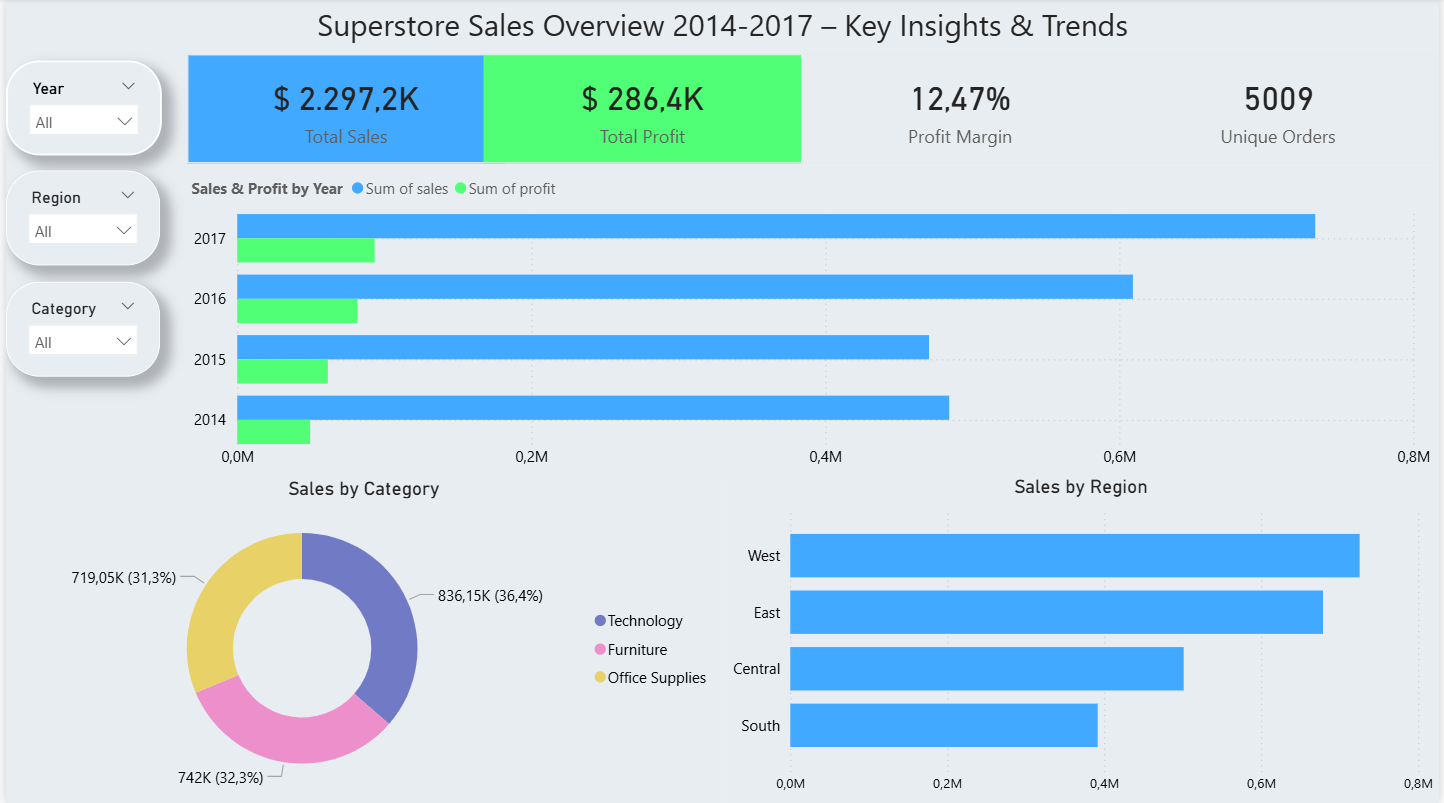

What the dashboard file says about the page in this screenshot:
{"tool":"powerbi","page":{"name":"Overview","canvas":[1280,720],"ordinal":0},"visuals":[{"type":"card","fields":{"Values":["superstore_clean.Total Sales"]},"box":[161.6,50,284.1,97.7],"z":0,"group":"g1"},{"type":"donutChart","title":"Sales by Category","fields":{"Category":["superstore_clean.category"],"Y":["Sum(superstore_clean.sales)"]},"box":[0,428.1,639.5,292.3],"z":0},{"type":"card","fields":{"Values":["superstore_clean.Total Profit"]},"box":[426.6,50,284.4,97.3],"z":1000,"group":"g1"},{"type":"slicer","fields":{"Values":["superstore_clean.order_year"]},"box":[-0.3,56,139.1,84.9],"z":1000,"group":"g2"},{"type":"clusteredBarChart","title":"Sales by Region","fields":{"Category":["superstore_clean.region"],"Y":["Sum(superstore_clean.sales)"]},"box":[639.5,426.8,640.8,293.7],"z":1000},{"type":"clusteredBarChart","fields":{"Y":["Sum(superstore_clean.sales)","Sum(superstore_clean.profit)"],"Category":["Calendar.Year"]},"box":[161.1,149.2,1116.6,279.8],"z":2000},{"type":"slicer","fields":{"Values":["superstore_clean.region"]},"box":[-0.3,154.8,137.7,84.9],"z":2000,"group":"g2"},{"type":"group","id":"g1","title":"Group 2","box":[161.6,50,1116.3,97.7],"z":3000},{"type":"card","fields":{"Values":["superstore_clean.Profit Margin"]},"box":[710.4,50,284.7,97.7],"z":3000,"group":"g1"},{"type":"slicer","fields":{"Values":["superstore_clean.category"]},"box":[-0.3,253.6,137.7,84.9],"z":3000,"group":"g2"},{"type":"textbox","box":[0,0,1280.2,50],"z":4000},{"type":"card","fields":{"Values":["Count(superstore_clean.order_id)"]},"box":[994.6,50,283.3,97.7],"z":4000,"group":"g1"},{"type":"group","id":"g2","title":"Group 3","box":[-0.3,56,139.1,282.4],"z":5000}]}

Visuals, with their boxes in screenshot pixels (x1, y1, x2, y2), scaled from the page's 1280x720 canvas onto the 1444x803 screenshot:
card - superstore_clean.Total Sales: detection(182, 56, 503, 165)
"Sales by Category" donutChart: detection(0, 477, 721, 802)
card - superstore_clean.Total Profit: detection(481, 56, 802, 164)
slicer - superstore_clean.order_year: detection(0, 62, 157, 157)
"Sales by Region" clusteredBarChart: detection(721, 476, 1443, 802)
clusteredBarChart - Sum(superstore_clean.sales) x Sum(superstore_clean.profit): detection(182, 166, 1441, 478)
slicer - superstore_clean.region: detection(0, 173, 155, 267)
"Group 2" group: detection(182, 56, 1442, 165)
card - superstore_clean.Profit Margin: detection(801, 56, 1123, 165)
slicer - superstore_clean.category: detection(0, 283, 155, 378)
textbox: detection(0, 0, 1443, 56)
card - Count(superstore_clean.order_id): detection(1122, 56, 1442, 165)
"Group 3" group: detection(0, 62, 157, 377)
